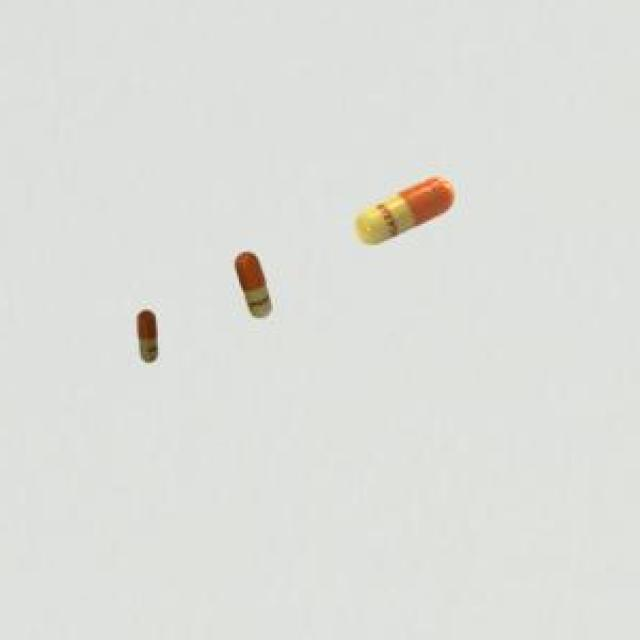Alaxan: (352, 170, 463, 258), (229, 244, 279, 326), (131, 307, 163, 375)
